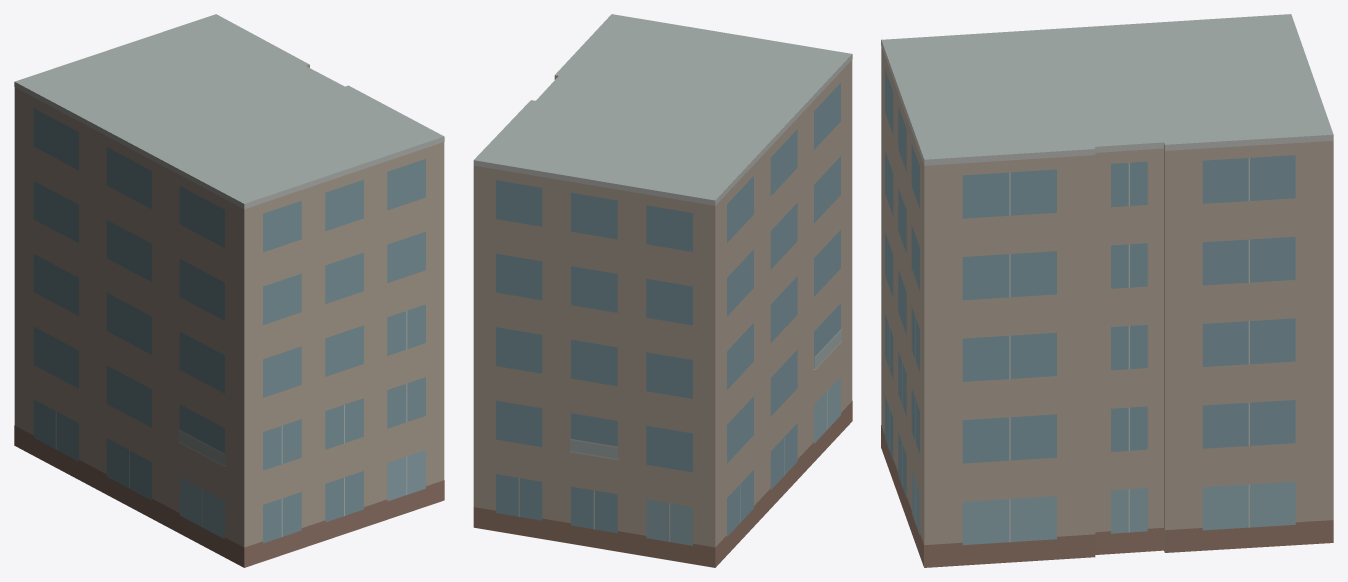
File: survey-upis-32614611.glb
3 renders of one model, left to right at view 1: azimuth 30°, elevation 25°; view 2: azimuth 150°, elevation 25°; view 3: azimuth 270°, elevation 25°, orthographic. The views are drawn at different scales.
Parts seen in each view (by area): view 1: survey-upis-32614611.tmp; view 2: survey-upis-32614611.tmp; view 3: survey-upis-32614611.tmp.
Part boxes in pixels (x1,y1,x2,y2): survey-upis-32614611.tmp: (14, 14, 444, 567); survey-upis-32614611.tmp: (473, 14, 852, 567); survey-upis-32614611.tmp: (881, 14, 1333, 567).
Size of the model in its own units: 12.65 by 16.5 by 16.59.
